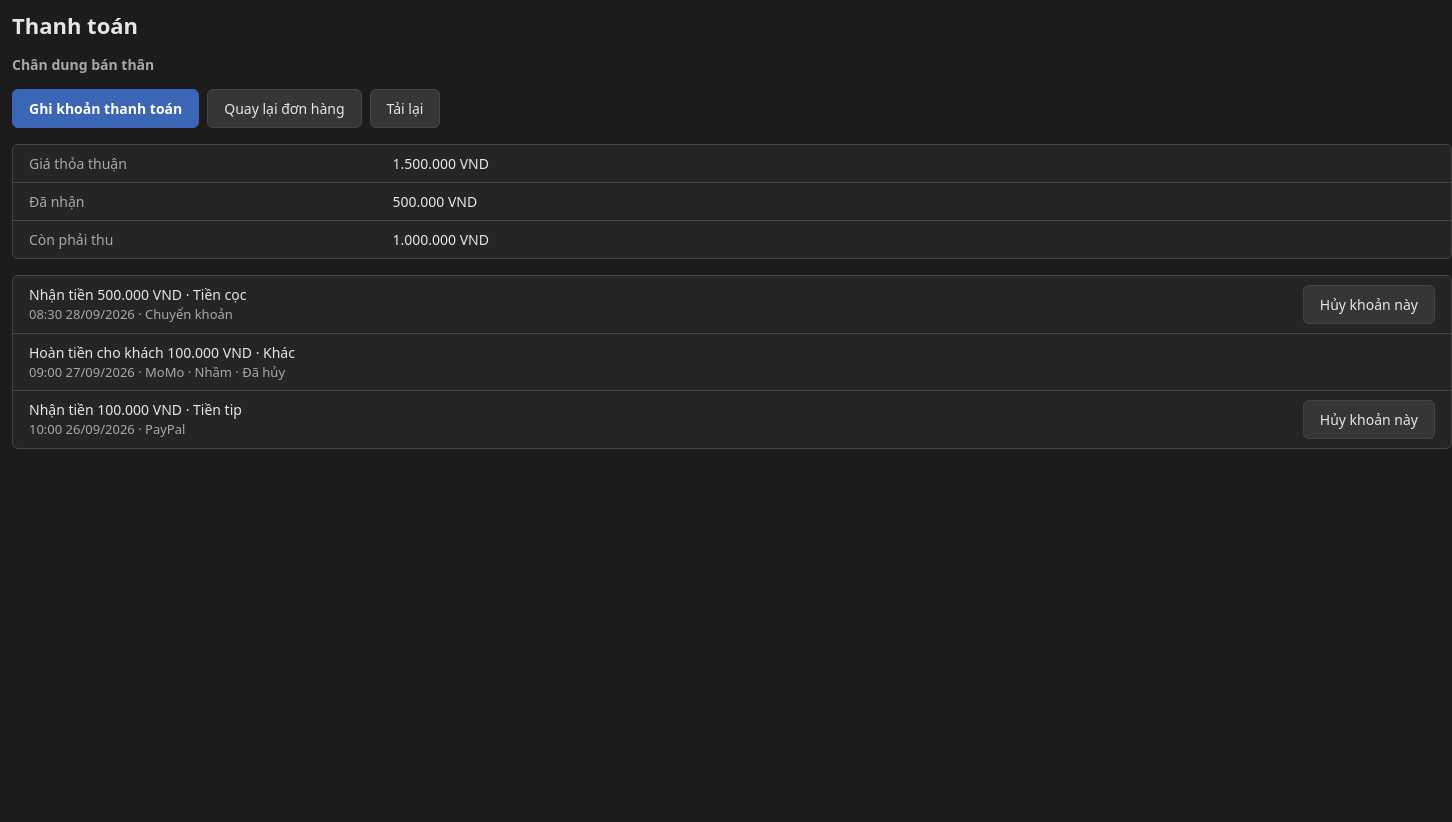
Test case: page payment_list: voiding a payment (§7.2, principle 5) › "Quay lại" closes the question and sends nothing: Routers was asked once (confirmed = false), never with true; the buttons are back
Expected: the element named "Số dư đơn hàng" is shown, [12,144,1451,259]
Click the button "Hủy khoản này" in the row of "Nhận tiền 500.000 VND · Tiền cọc".
click(1369, 304)  # box [1303,285,1435,324]
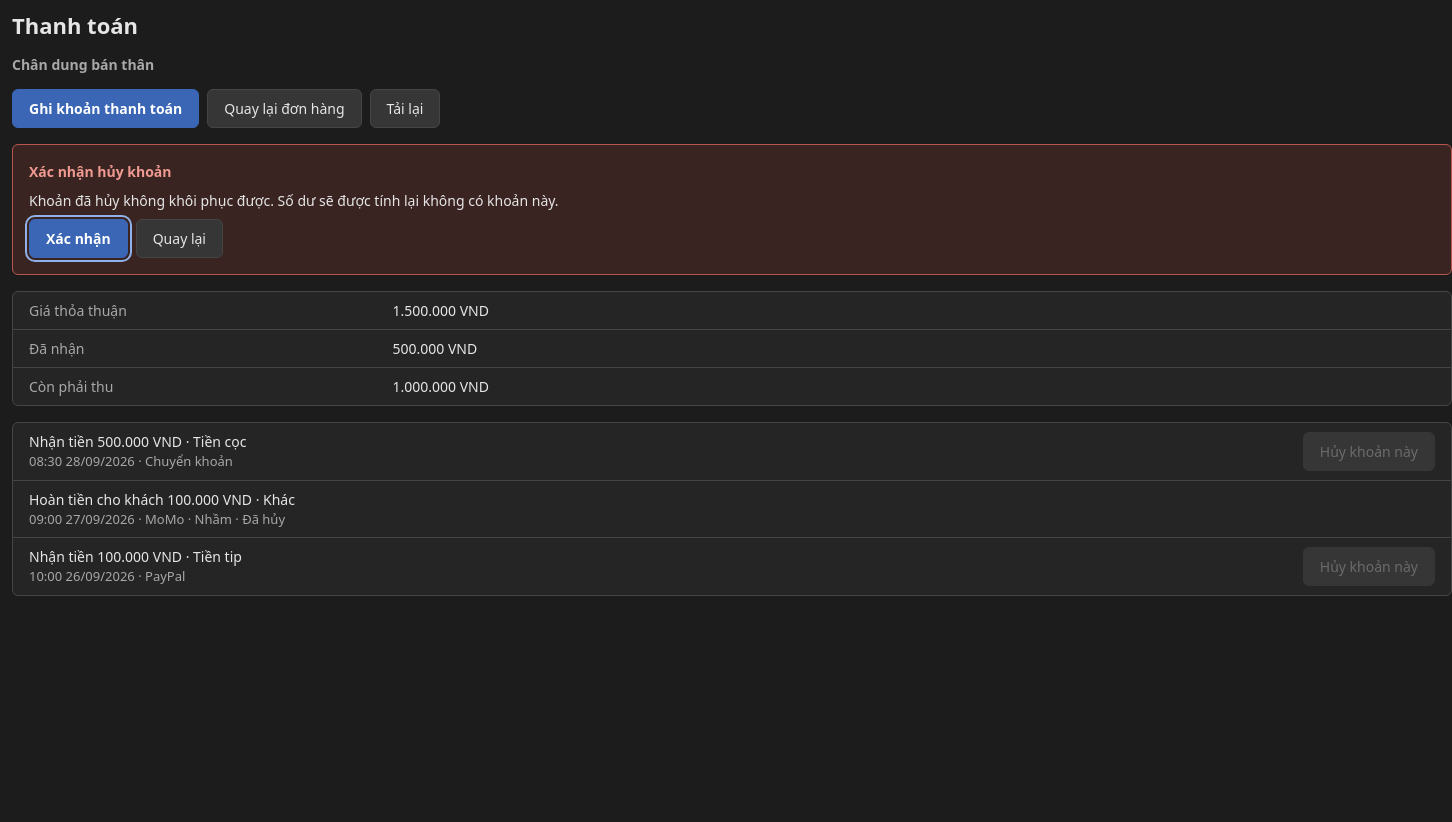
Click the button "Quay lại".
click(179, 238)  # box [136,219,223,258]
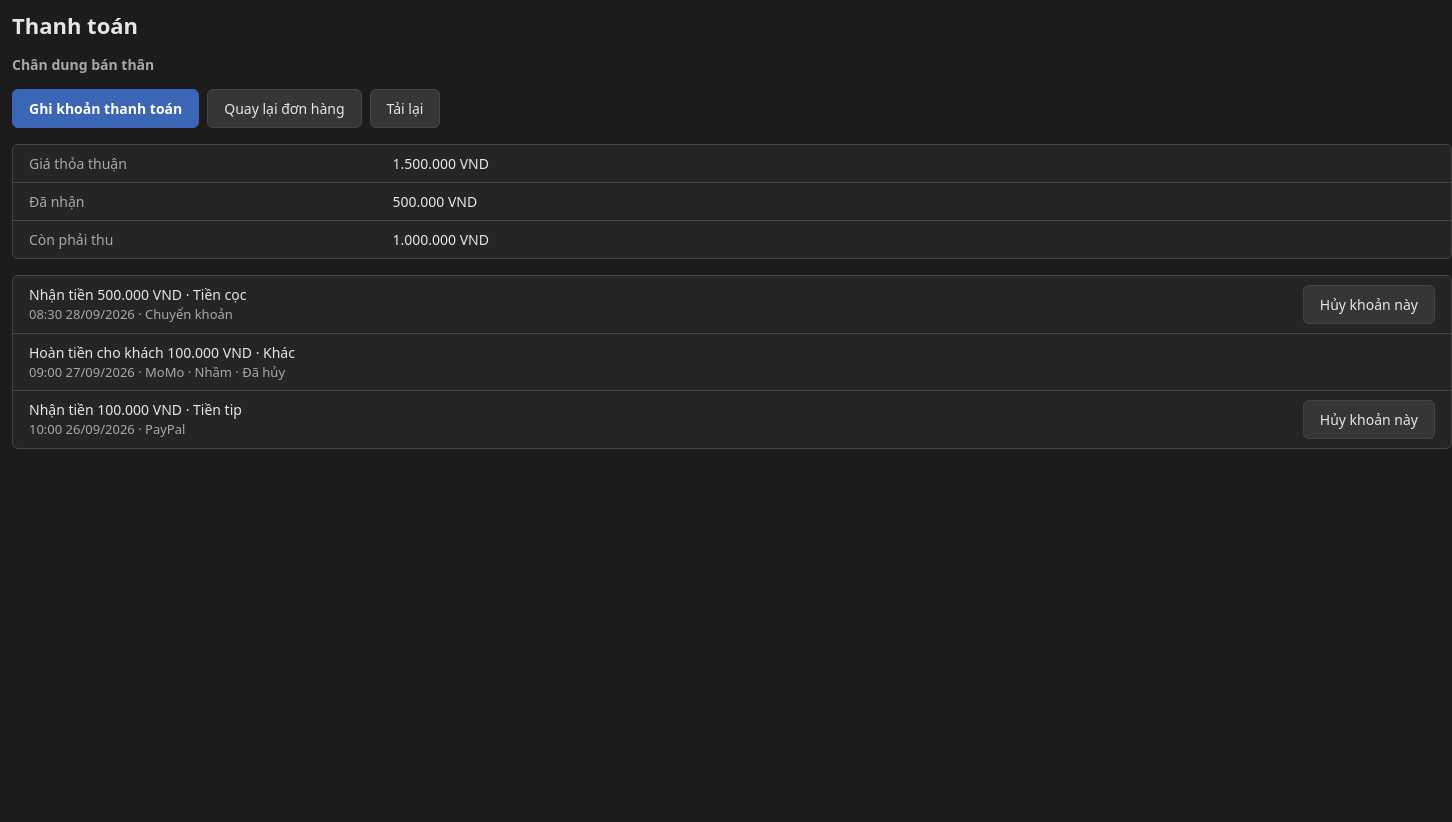
Expected: the text "Xác nhận hủy khoản" is gone
